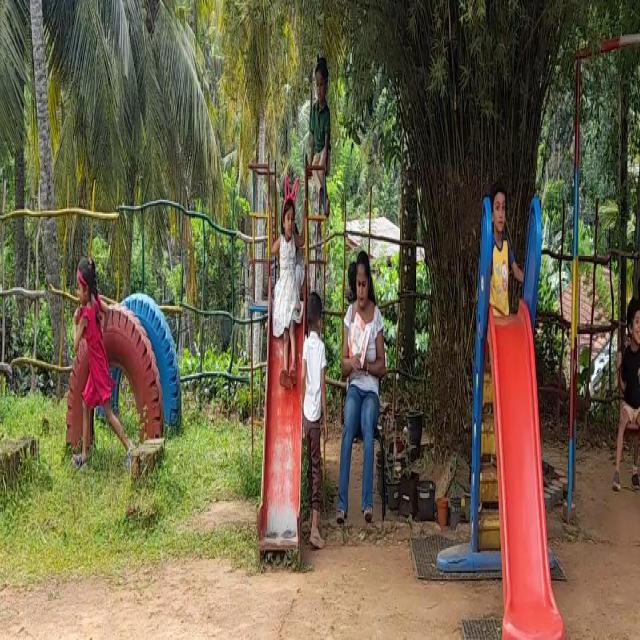adult: (339, 230, 396, 536)
child: (68, 248, 128, 462), (298, 298, 337, 539), (272, 172, 298, 399), (306, 42, 337, 228), (616, 296, 640, 496), (493, 186, 517, 315)
